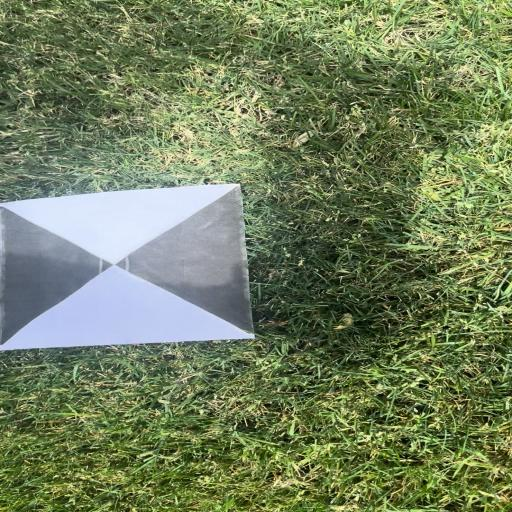target: (4, 190, 251, 338)
